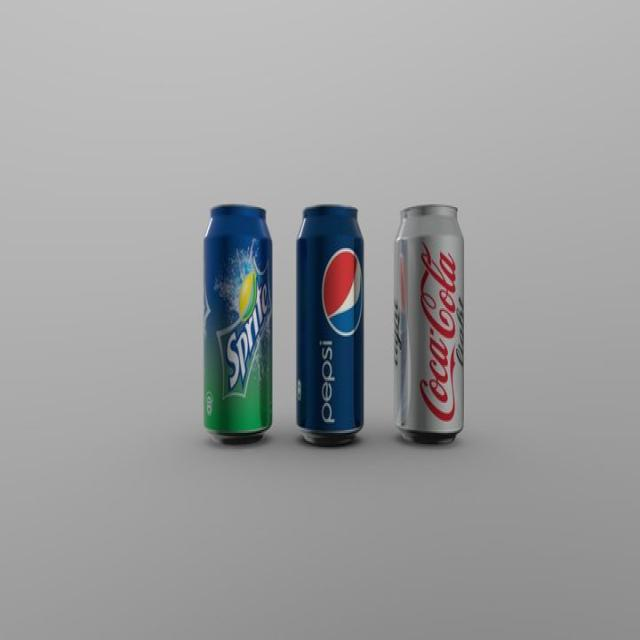sprite: (200, 194, 278, 444)
